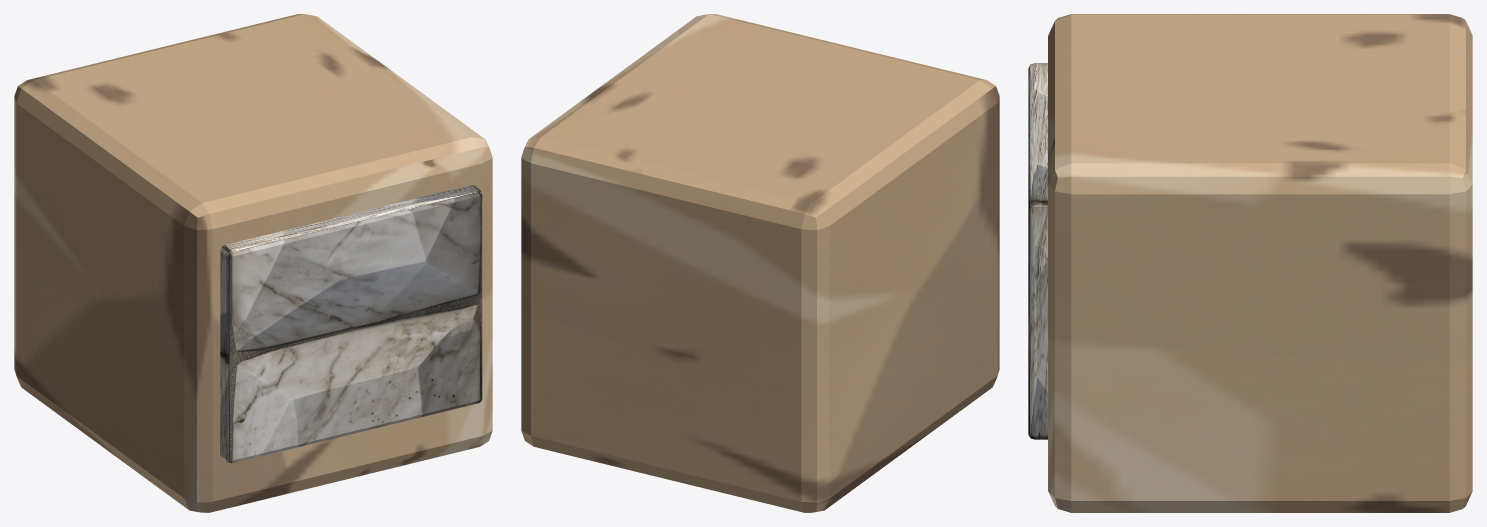
Rendered from ruin_block_060_LOD1.glb.
3 renders of one model, left to right at view 1: azimuth 30°, elevation 25°; view 2: azimuth 150°, elevation 25°; view 3: azimuth 270°, elevation 25°, orthographic. The views are drawn at different scales.
Parts seen in each view (by area): view 1: LOD1_Block, LOD1_Veneer; view 2: LOD1_Block; view 3: LOD1_Block, LOD1_Veneer.
Part boxes in pixels (box(x1,y1,x2,y2)): LOD1_Block: box(14, 14, 492, 512); LOD1_Veneer: box(220, 185, 482, 463); LOD1_Block: box(521, 14, 999, 512); LOD1_Block: box(1048, 14, 1472, 512); LOD1_Veneer: box(1028, 63, 1047, 439).
Bounding box in the file's own units: 0.6 × 0.58 × 0.67.
2 materials, 2 textured.
